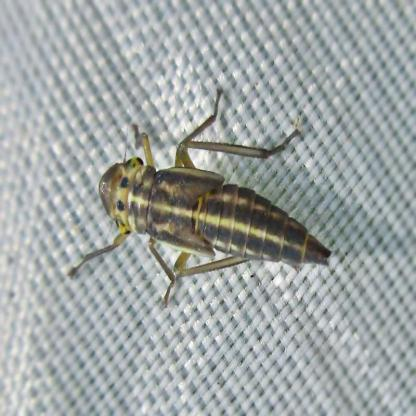Green-Leafhopper: (58, 83, 353, 316)
